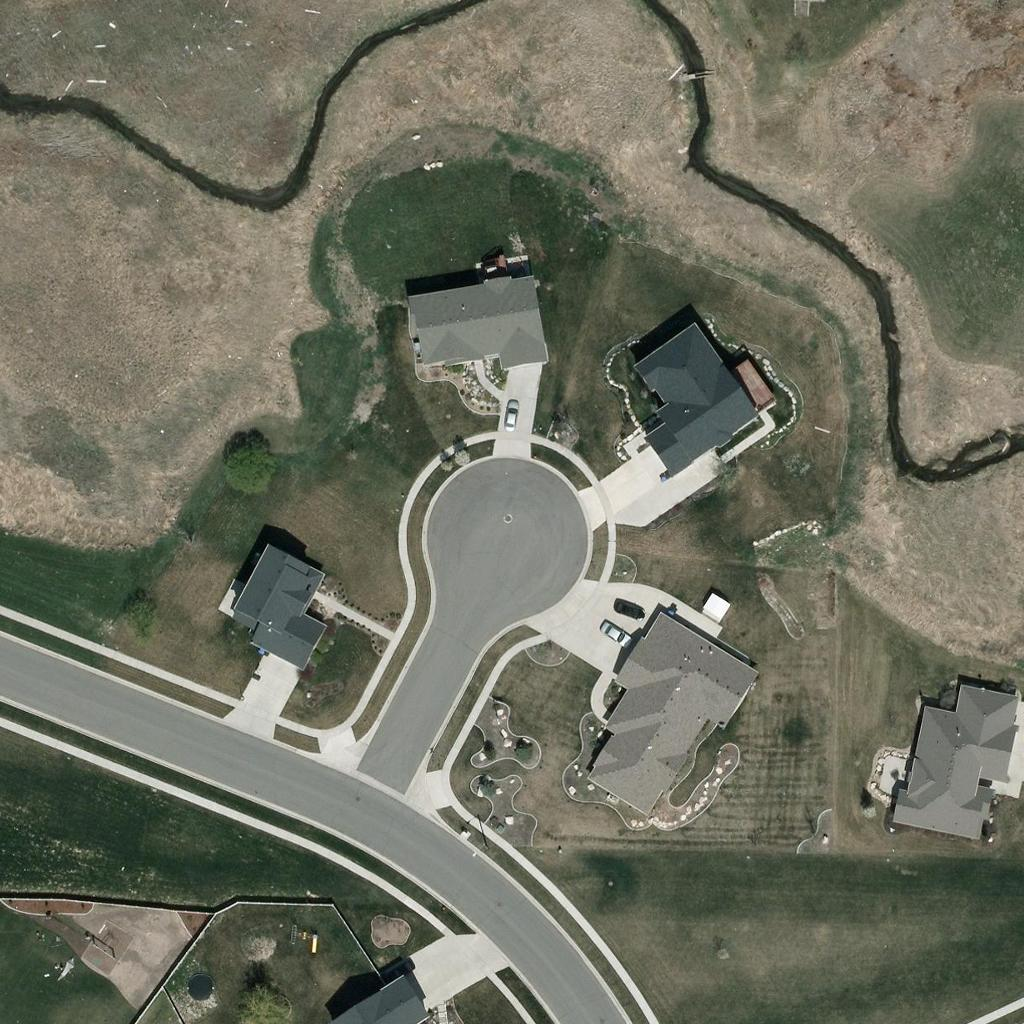car: (493, 400, 527, 434), (610, 593, 644, 627), (597, 616, 631, 650)
